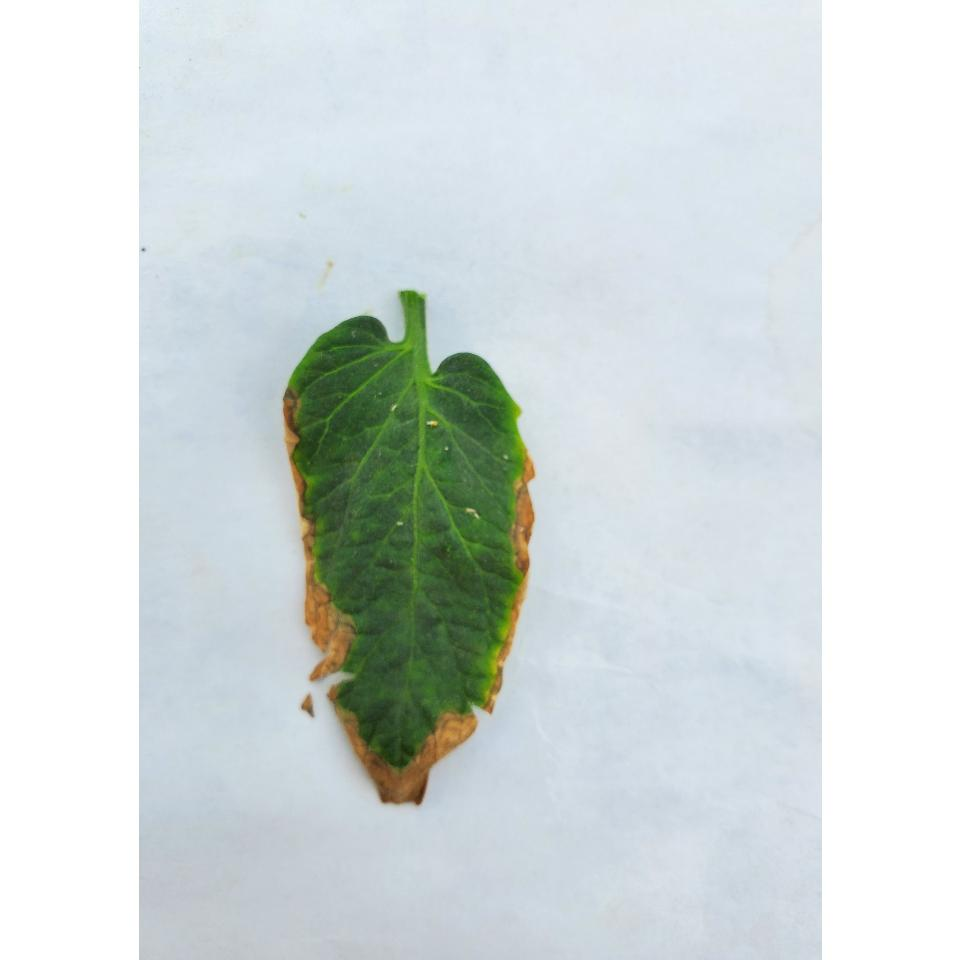tomato_bacterial_blight: (274, 327, 540, 815)
